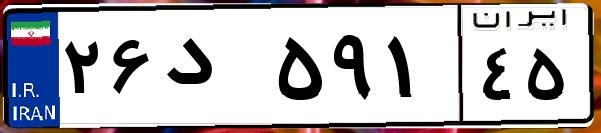1: (385, 28, 445, 110)
2: (57, 26, 110, 100)
4: (475, 38, 525, 113)
5: (270, 28, 330, 110), (525, 38, 570, 115)
6: (110, 28, 158, 98)
9: (330, 28, 385, 110)
د: (158, 20, 270, 120)
